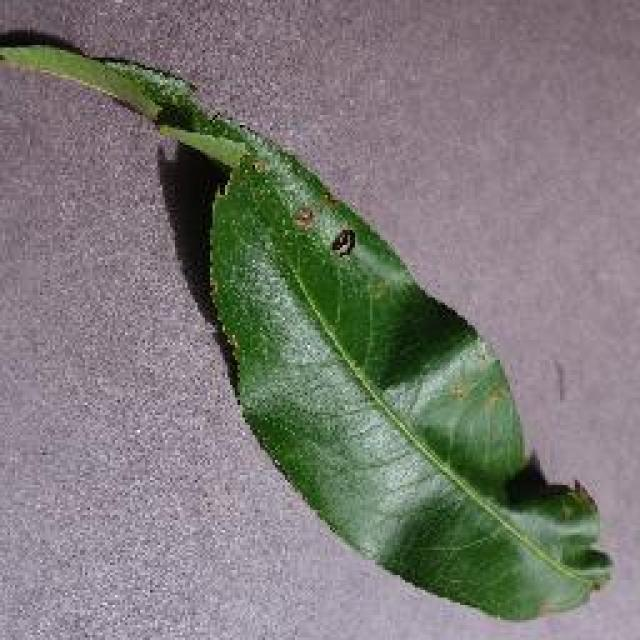Peach_Bacterial_Spot: (140, 100, 377, 275)
